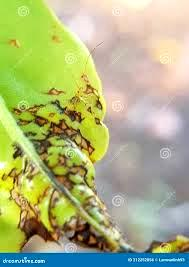Xanthomonas: (0, 73, 125, 253)
